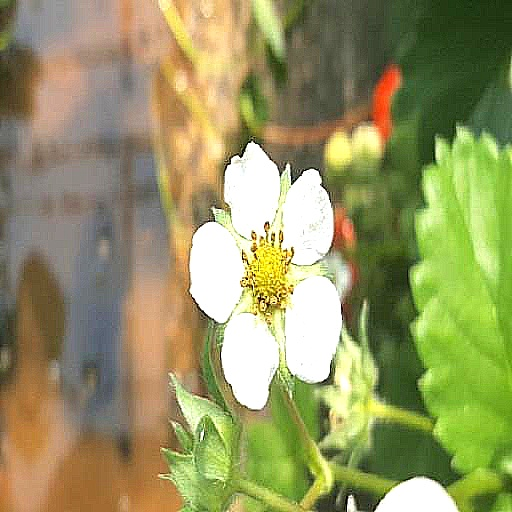Blossom Blight: (237, 216, 299, 326)
